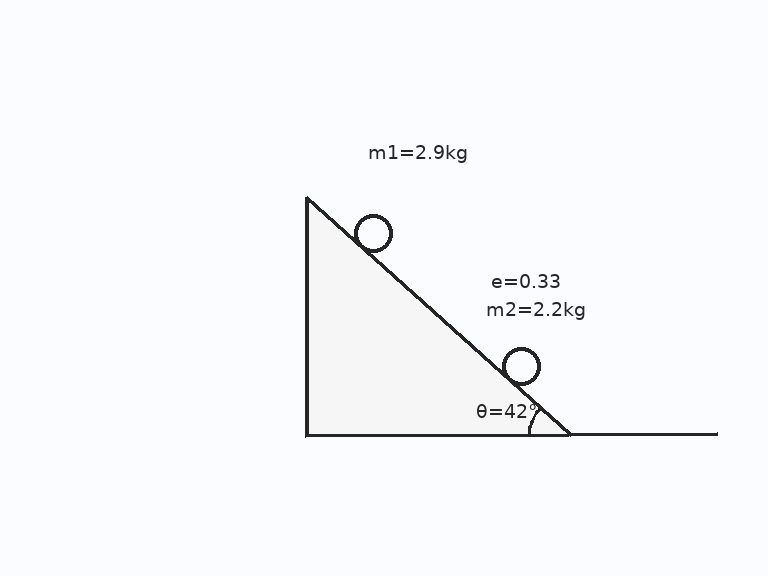ball: (352, 212, 394, 254), (500, 345, 542, 387)
ramp: (304, 196, 571, 437)
